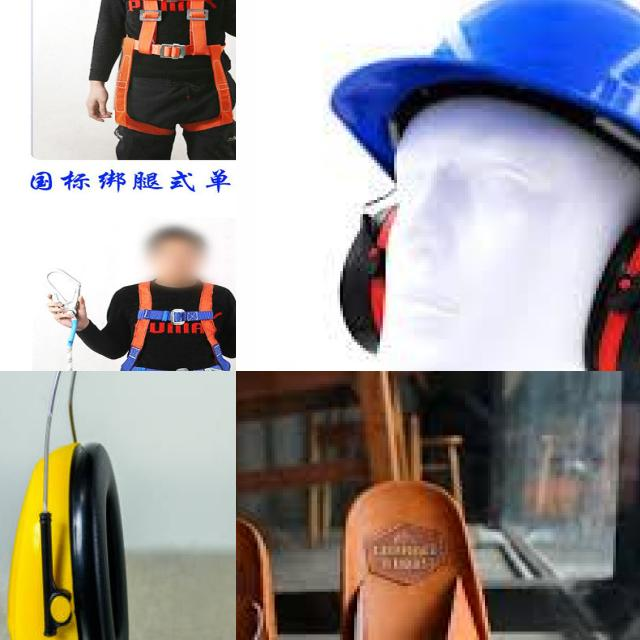Ear-protection: (330, 164, 640, 371), (0, 371, 236, 640)
Harness: (103, 0, 236, 133), (120, 279, 236, 371)
Sandals: (236, 420, 577, 640)
